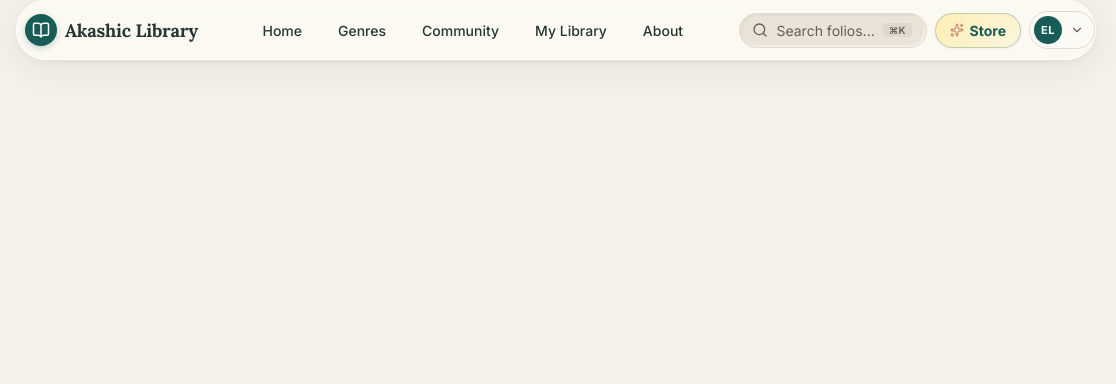
Test: Navbar Component › renders Moderation Console link for MODERATOR and ADMIN, but hides it for USER and STORE_MANAGER
Later steps or results of the test are not shown.
Click the button with aria-label "Account menu for Elena Moderator" at [1062, 30], box [1029,11,1095,49]
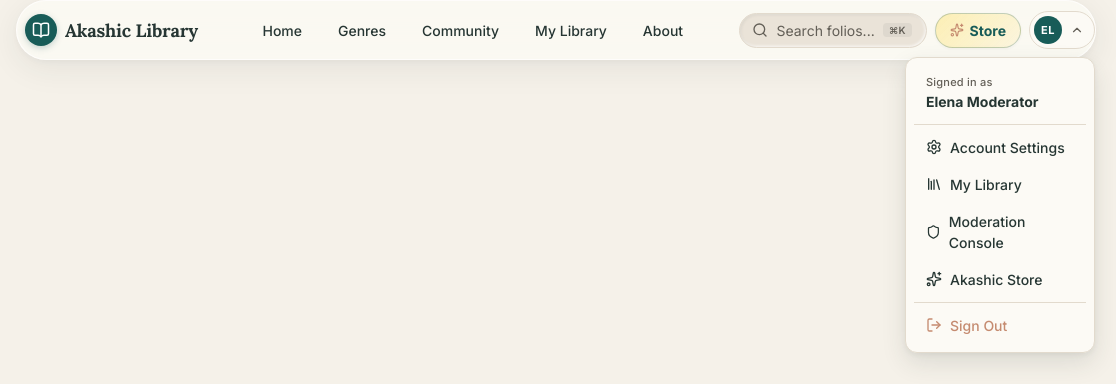
Result: the menu item "Moderation Console" is shown at [914,202,1086,260]
